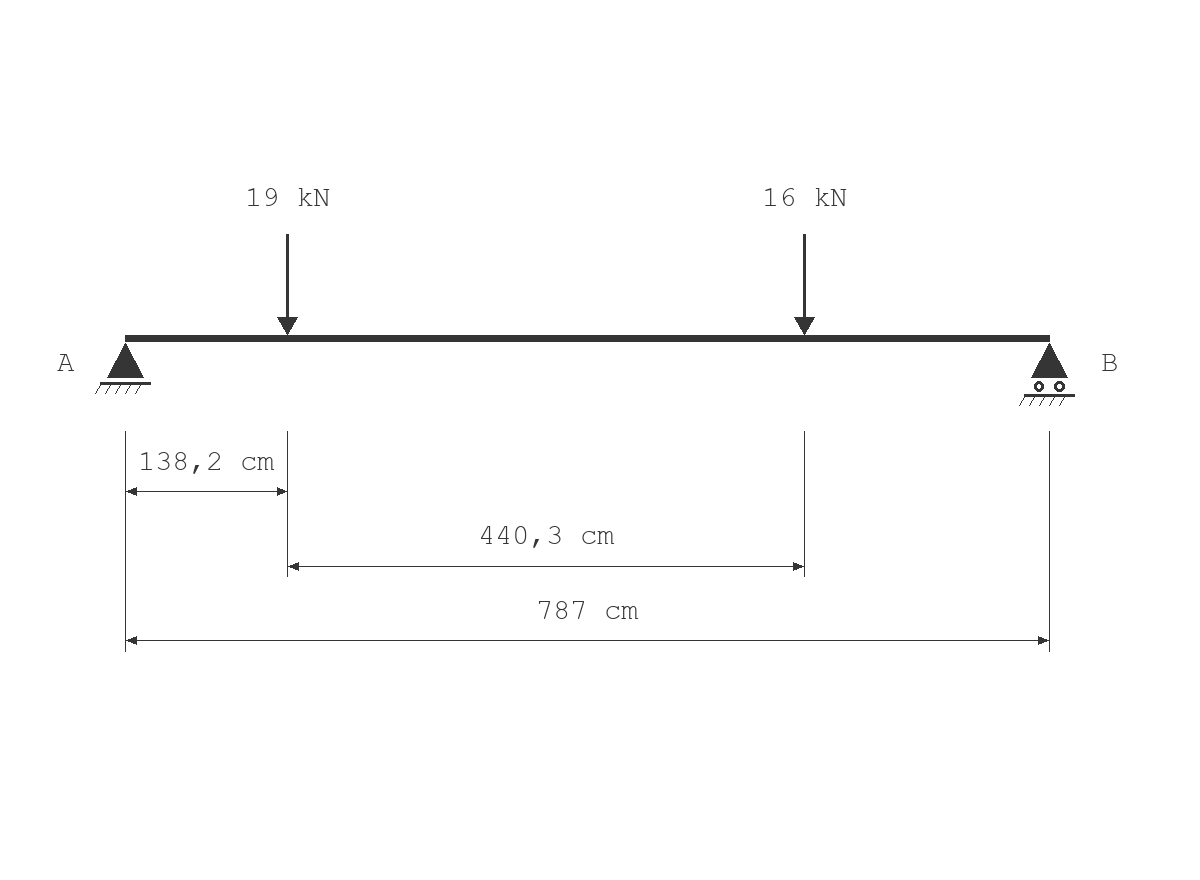pin_support: (95, 343, 151, 394)
point_load: (277, 234, 298, 335), (794, 234, 815, 335)
roller_support: (1019, 343, 1075, 406)
